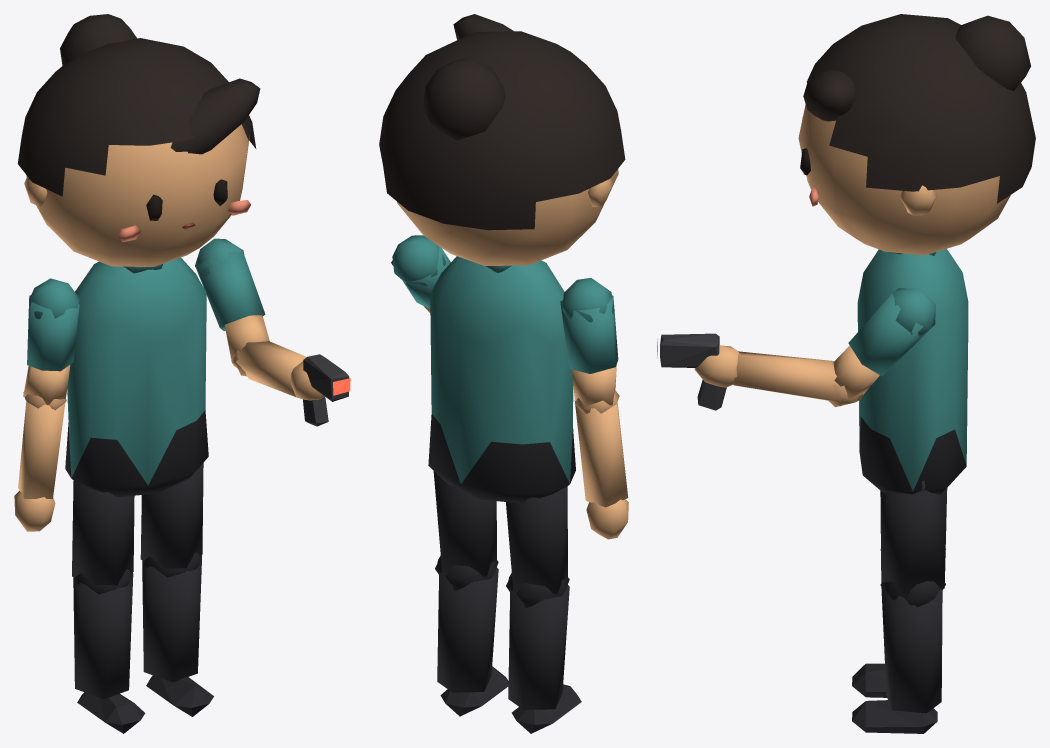
File: era3_cashier.glb
3 views of the same model, side by side, from view 1: azimuth 30°, elevation 25°; view 2: azimuth 150°, elevation 25°; view 3: azimuth 270°, elevation 25° (orthographic). The views are drawn at different scales.
Parts seen in each view (by area): view 1: head, body, shin_R, shin_L, leg_R, arm_R, leg_L, arm_L, forearm_R, forearm_L, prop_scanner; view 2: head, body, shin_L, shin_R, arm_R, leg_R, forearm_R, leg_L, arm_L; view 3: head, body, shin_L, leg_L, arm_L, forearm_L, prop_scanner, shin_R.
Part boxes in pixels (<box>): head: <box>17,14,260,266</box>; body: <box>65,257,208,496</box>; shin_R: <box>73,573,145,733</box>; shin_L: <box>142,556,213,716</box>; leg_R: <box>72,481,134,594</box>; arm_R: <box>23,278,79,410</box>; leg_L: <box>140,463,203,577</box>; arm_L: <box>195,238,269,368</box>; forearm_R: <box>14,395,65,531</box>; forearm_L: <box>235,341,324,400</box>; prop_scanner: <box>303,354,350,426</box>; head: <box>379,14,625,265</box>; body: <box>428,256,575,503</box>; shin_L: <box>437,556,508,716</box>; shin_R: <box>508,573,581,733</box>; arm_R: <box>560,277,619,413</box>; leg_R: <box>506,486,569,601</box>; forearm_R: <box>574,391,628,539</box>; leg_L: <box>433,471,498,584</box>; arm_L: <box>391,235,450,312</box>; head: <box>798,14,1035,255</box>; body: <box>857,248,968,494</box>; shin_L: <box>852,581,942,733</box>; leg_L: <box>880,480,947,605</box>; arm_L: <box>828,288,935,407</box>; forearm_L: <box>694,345,863,406</box>; prop_scanner: <box>657,333,726,410</box>; shin_R: <box>852,549,886,697</box>.
Bounding box in the file's own units: 0.5313 × 1.48 × 0.7287.
